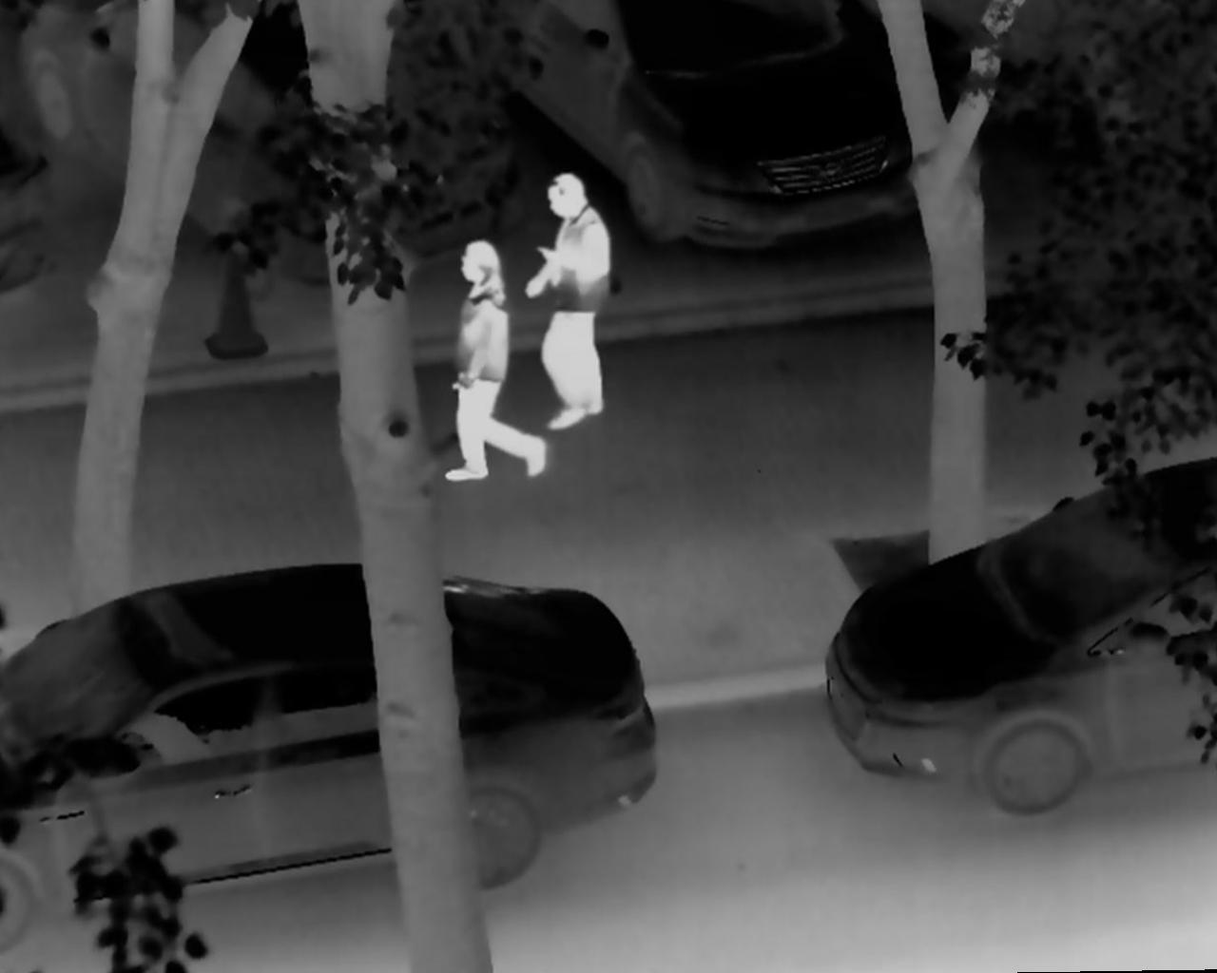person: (422, 237, 546, 485), (526, 167, 610, 435)
